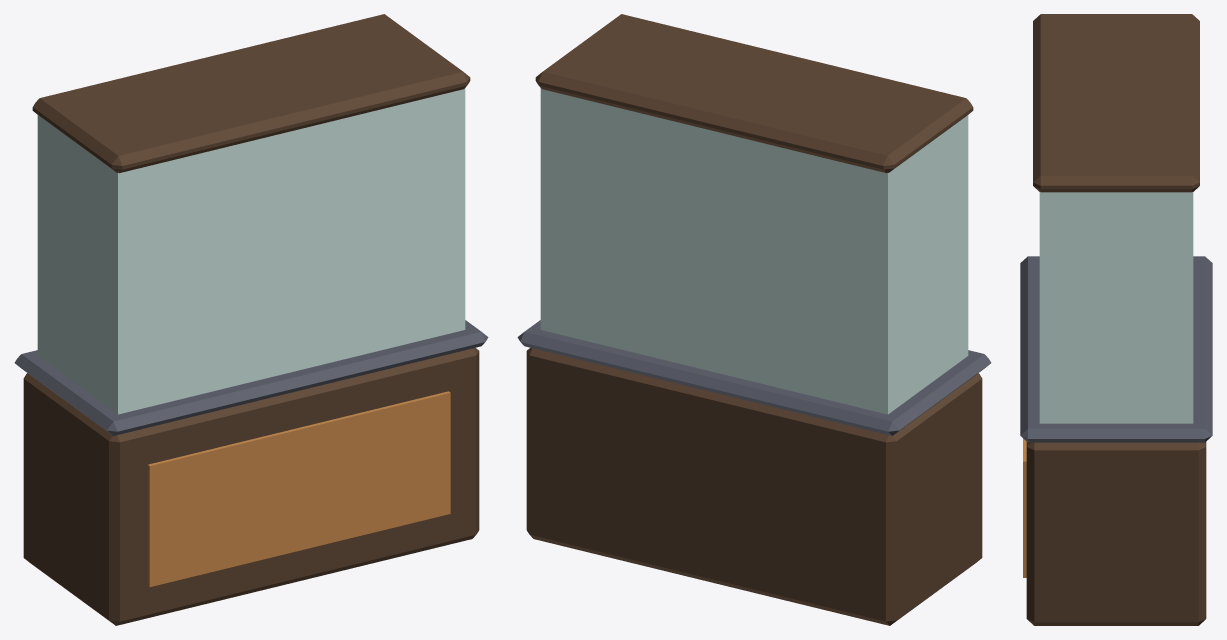
File: CatCafe_Decor_FishTank.glb
3 views of the same model, side by side, from view 1: azimuth 30°, elevation 25°; view 2: azimuth 150°, elevation 25°; view 3: azimuth 270°, elevation 25° (orthographic). The views are drawn at different scales.
Parts seen in each view (by area): view 1: CatCafe_Decor_FishTank_Stand, CatCafe_Decor_FishTank_Glass; view 2: CatCafe_Decor_FishTank_Stand, CatCafe_Decor_FishTank_Glass; view 3: CatCafe_Decor_FishTank_Stand, CatCafe_Decor_FishTank_Glass.
Part boxes in pixels (x1,y1,x2,y2): CatCafe_Decor_FishTank_Stand: (14, 14, 488, 625); CatCafe_Decor_FishTank_Glass: (37, 88, 465, 414); CatCafe_Decor_FishTank_Stand: (517, 14, 991, 625); CatCafe_Decor_FishTank_Glass: (540, 88, 968, 414); CatCafe_Decor_FishTank_Stand: (1020, 14, 1212, 625); CatCafe_Decor_FishTank_Glass: (1039, 192, 1193, 423).
Bounding box in the file's own units: 3.3 × 3.85 × 1.5.
1 material, 1 textured.
